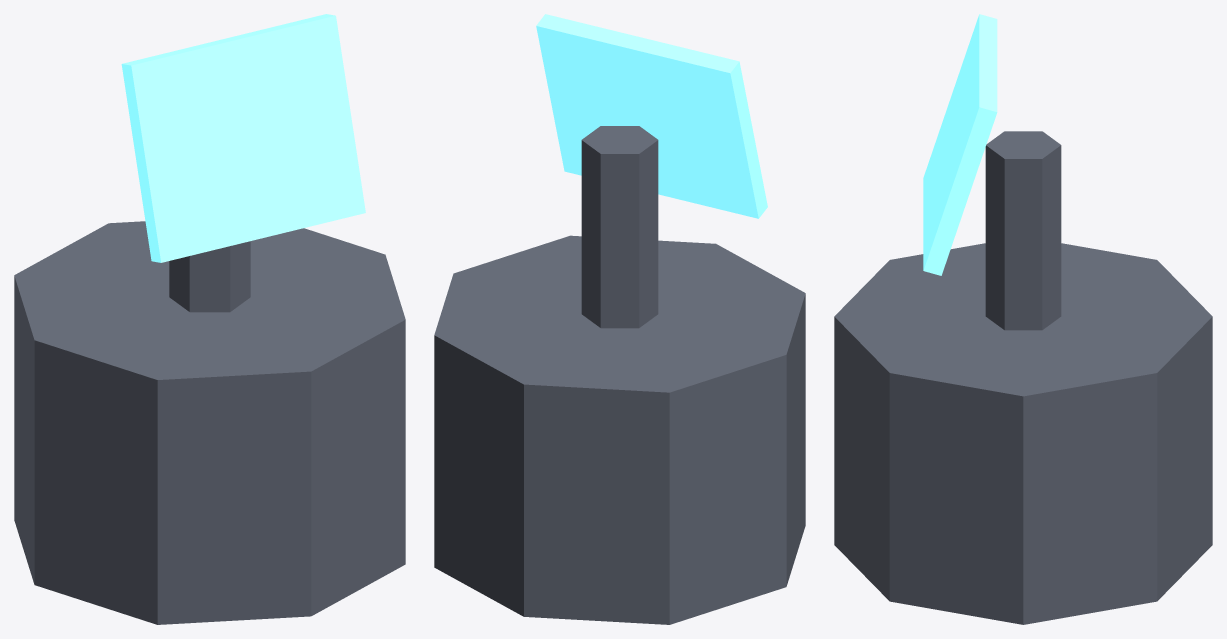
Rendered from data_terminal.glb.
3 renders of one model, left to right at view 1: azimuth 30°, elevation 25°; view 2: azimuth 150°, elevation 25°; view 3: azimuth 270°, elevation 25°, orthographic. The views are drawn at different scales.
Parts seen in each view (by area): view 1: TermBase, TermScreen, TermStem; view 2: TermBase, TermScreen, TermStem; view 3: TermBase, TermStem, TermScreen.
Boxes of the visible parts, bbox=[...] form: TermBase: bbox=[14, 221, 405, 624]; TermScreen: bbox=[121, 14, 365, 262]; TermStem: bbox=[169, 241, 250, 312]; TermBase: bbox=[434, 235, 805, 624]; TermScreen: bbox=[536, 14, 767, 218]; TermStem: bbox=[581, 126, 658, 328]; TermBase: bbox=[834, 243, 1212, 624]; TermStem: bbox=[985, 131, 1061, 330]; TermScreen: bbox=[923, 14, 997, 275].
Size of the model in its own units: 0.6 by 0.8477 by 0.6.
